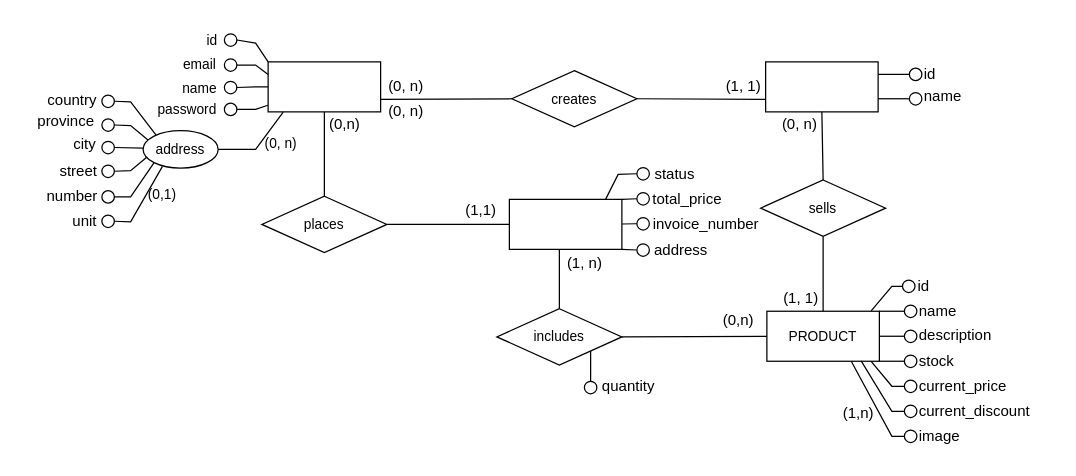
The diagram is 1076 pixels wide and 476 high, and some of its shapes have lost their labels. Here are the shapes that lost their labels. From the top down, the centre of each, then its label:
At point (324, 86): "USER".
At point (821, 86): "STORE".
At point (565, 223): "ORDER".
